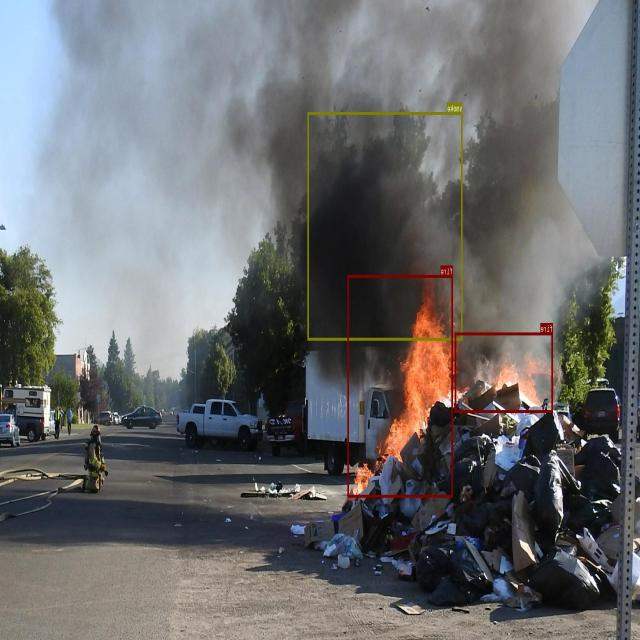fire: (348, 275, 453, 497), (455, 332, 553, 412)
smoke: (308, 111, 463, 340)
